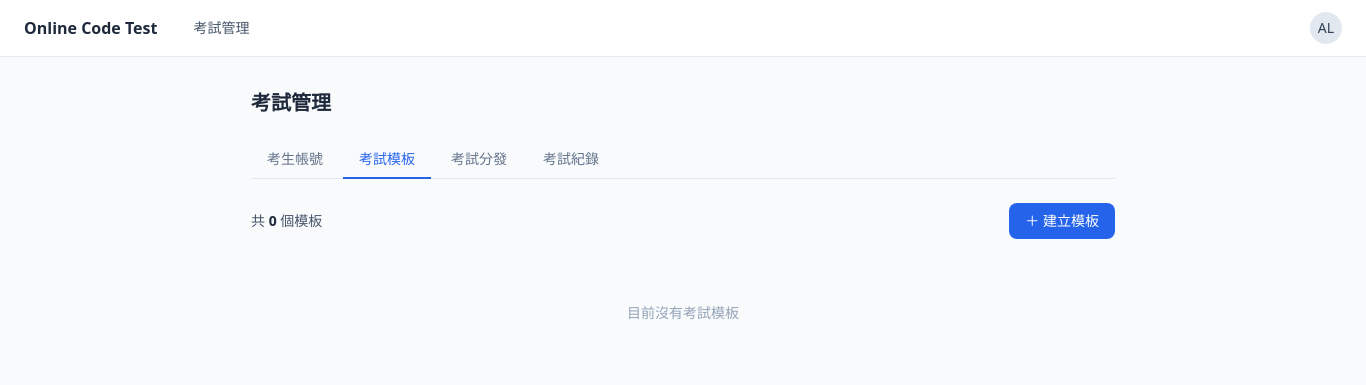
InterviewerDashboardPage() › candidates tab: shows candidate count and list
What coordinates should you click on to do the following:
click the button "考生帳號"
I would click on:
 (295, 160)
Its box is [251, 141, 339, 179].
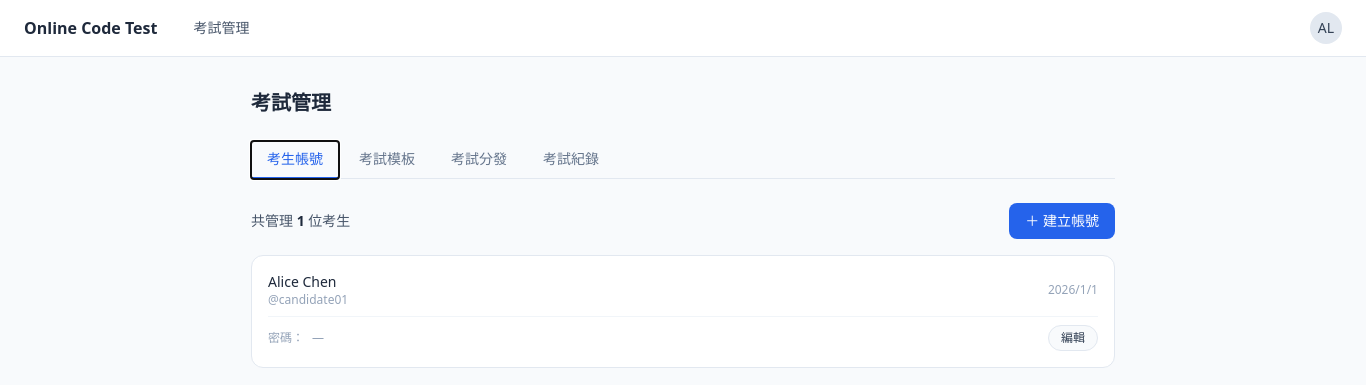
Check: the text "共管理 1 位考生" is shown, box [251, 211, 350, 231]
Check: the text "Alice Chen" is shown, box [268, 272, 348, 292]
